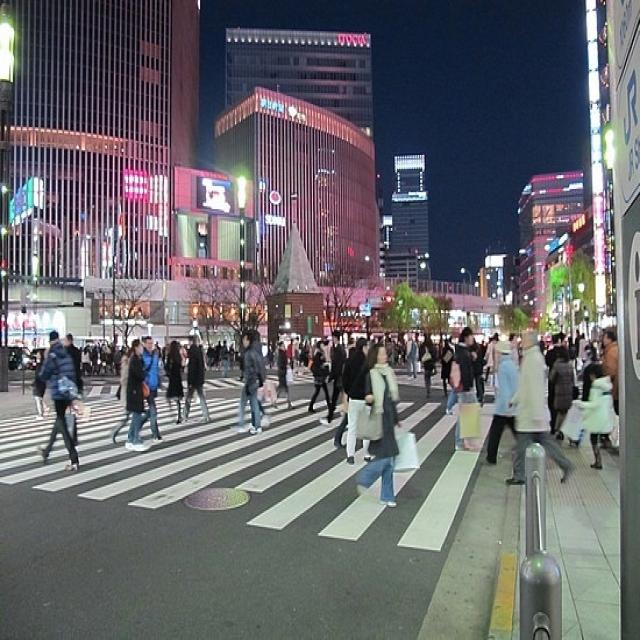body: (502, 328, 576, 486), (354, 339, 421, 507), (36, 328, 80, 472), (576, 361, 623, 471), (484, 338, 523, 466), (338, 336, 374, 465), (232, 330, 268, 439), (122, 337, 153, 452), (177, 332, 212, 423), (547, 346, 576, 442), (139, 334, 164, 444), (245, 328, 269, 434), (110, 344, 134, 446), (306, 339, 336, 414), (326, 328, 348, 424), (544, 332, 564, 436), (600, 328, 622, 417), (532, 330, 607, 356), (76, 336, 126, 375), (162, 338, 184, 424), (271, 340, 296, 412), (454, 326, 479, 394), (417, 330, 438, 398), (63, 332, 85, 396), (30, 346, 48, 420), (439, 336, 456, 397), (284, 333, 314, 366), (377, 332, 405, 366), (482, 334, 499, 382), (204, 340, 232, 368), (332, 412, 352, 451), (405, 332, 419, 382), (444, 387, 458, 417), (151, 341, 170, 359), (178, 341, 192, 364), (508, 332, 518, 341), (491, 330, 500, 339)
